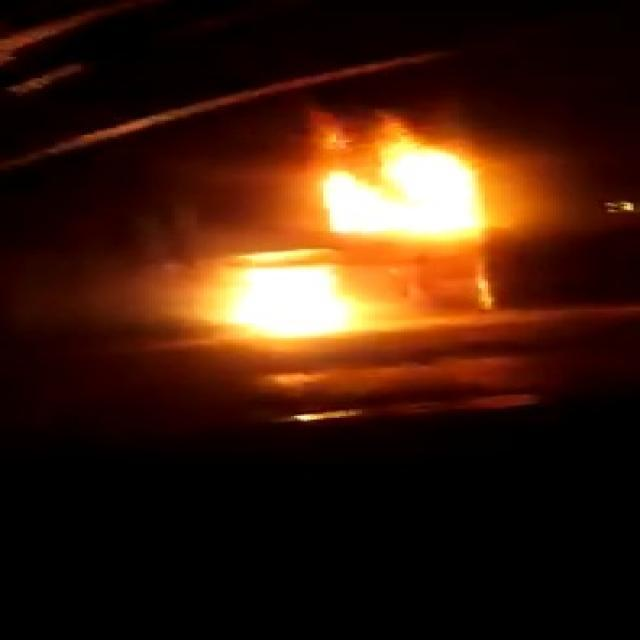Fire: (318, 138, 497, 252), (205, 253, 374, 344)
